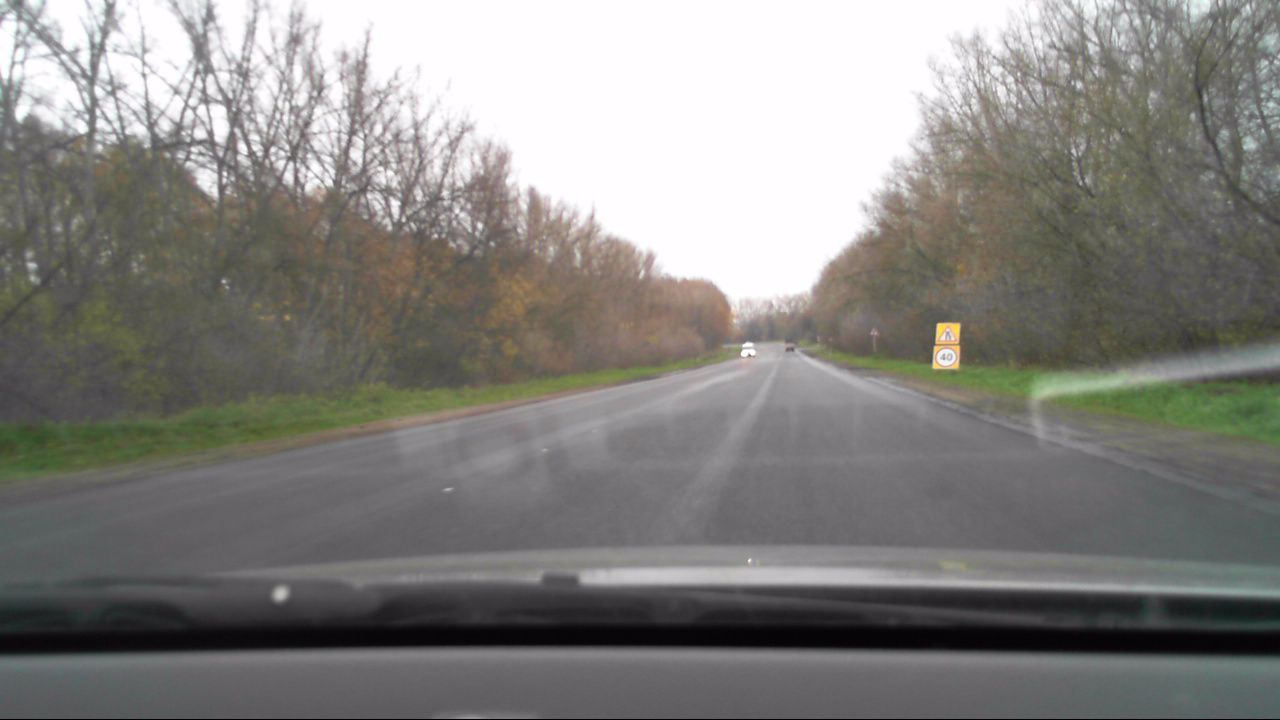speed_warning_40: (932, 346, 959, 368)
